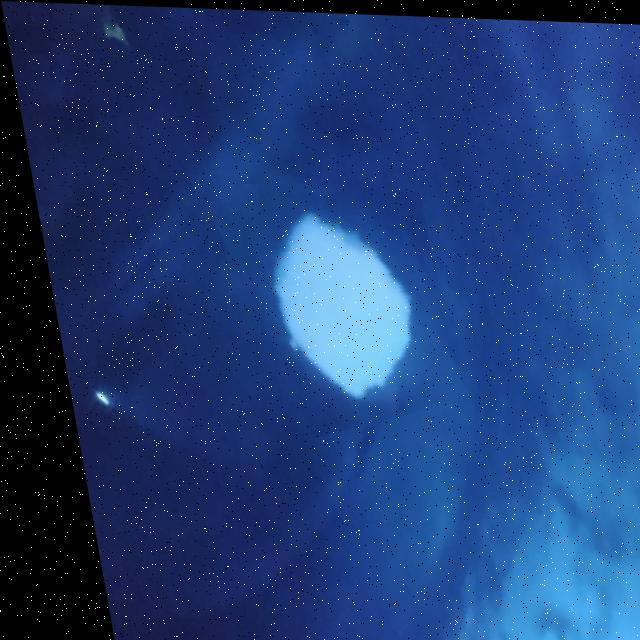litter: (213, 180, 447, 431)
